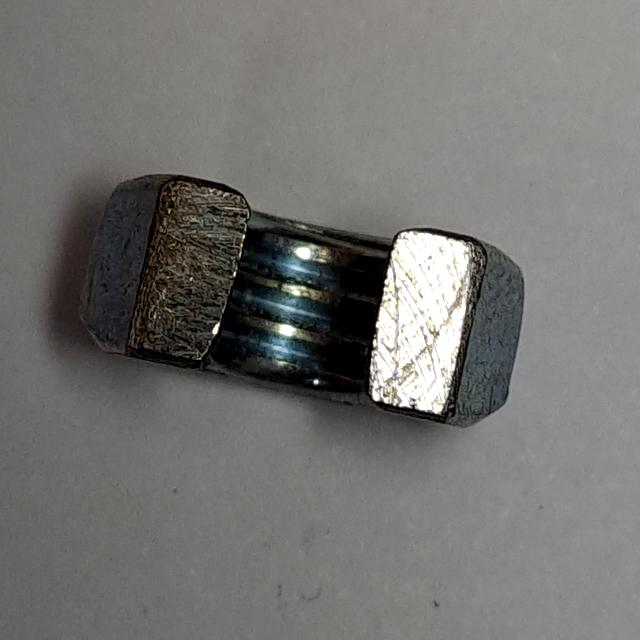Side-Fracture: (66, 158, 539, 447)
